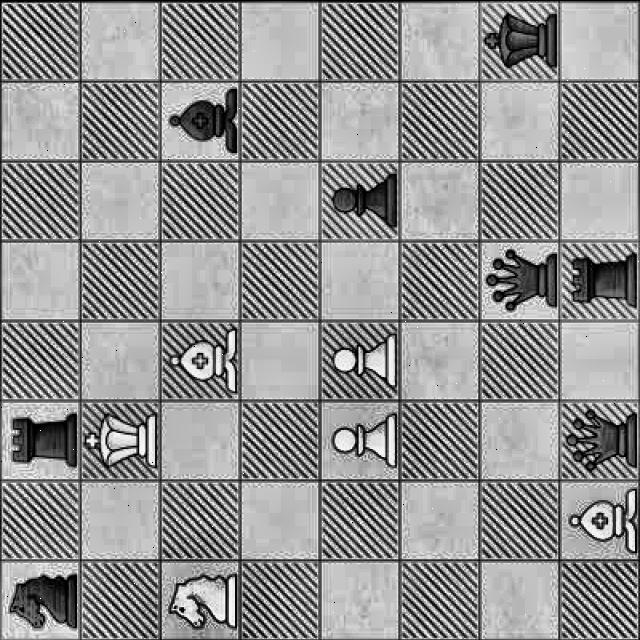Black Knight: (0, 570, 77, 634)
black bishop: (158, 82, 242, 160)
black king: (481, 2, 559, 78)
black pawn: (317, 166, 399, 236)
black queen: (482, 243, 558, 320), (558, 408, 638, 478)
black rook: (562, 243, 640, 316), (8, 408, 84, 472)
white bishop: (560, 484, 638, 553), (164, 326, 238, 394)
white king: (83, 406, 169, 475)
white pawn: (323, 404, 398, 476), (324, 325, 398, 393)
whiteknight: (169, 565, 236, 635)
